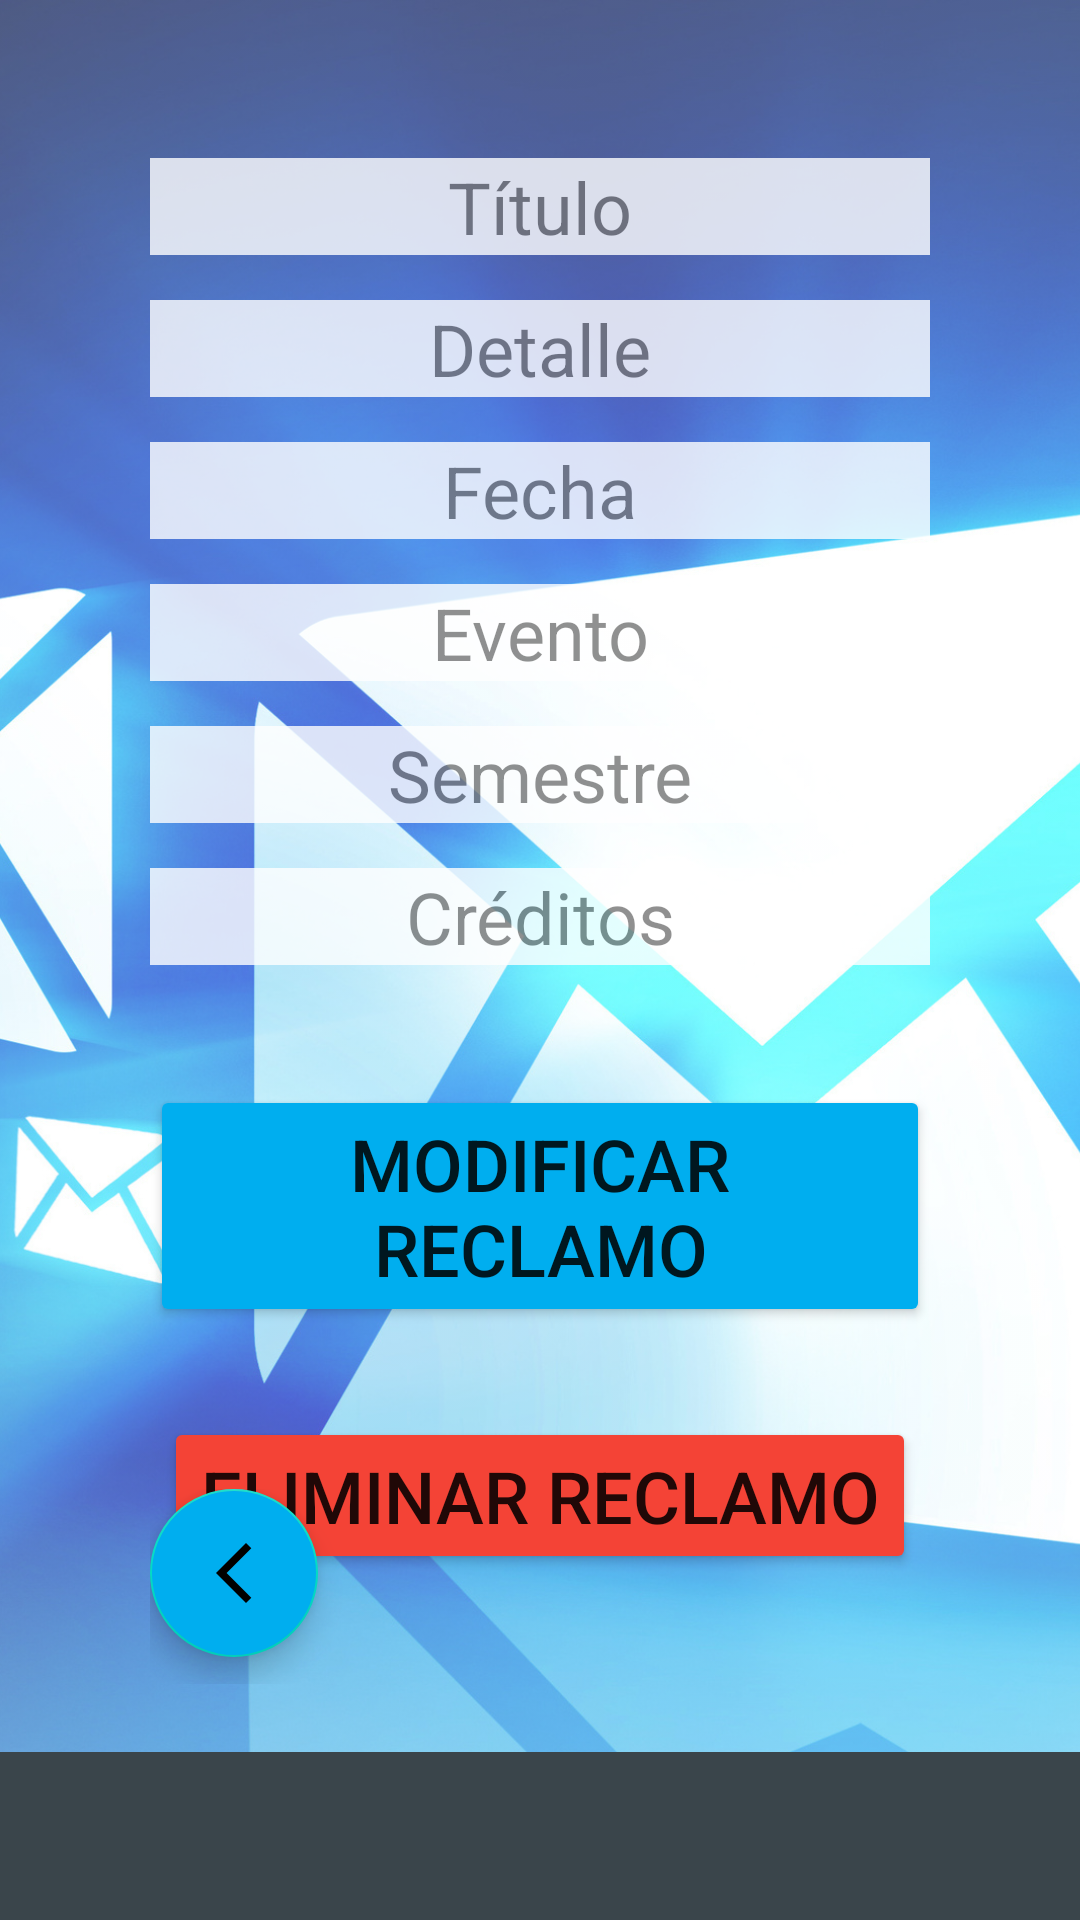

Point at icon controls on the screen. Image size 1080x1920, points as [x,y].
volver: [234,1573]
